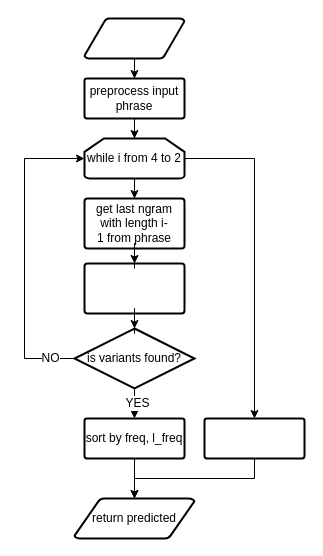
Some shapes in this 323 by 556 pixel diagram are drawn without their labels. The box of each missing label's shape, as (x1, y1, x2, y2) in pixels:
find in i-th ngram data table all variants by prefix: (83, 262, 185, 314)
get top most frequent unigram: (203, 417, 305, 459)
input phrase: (83, 17, 185, 59)
